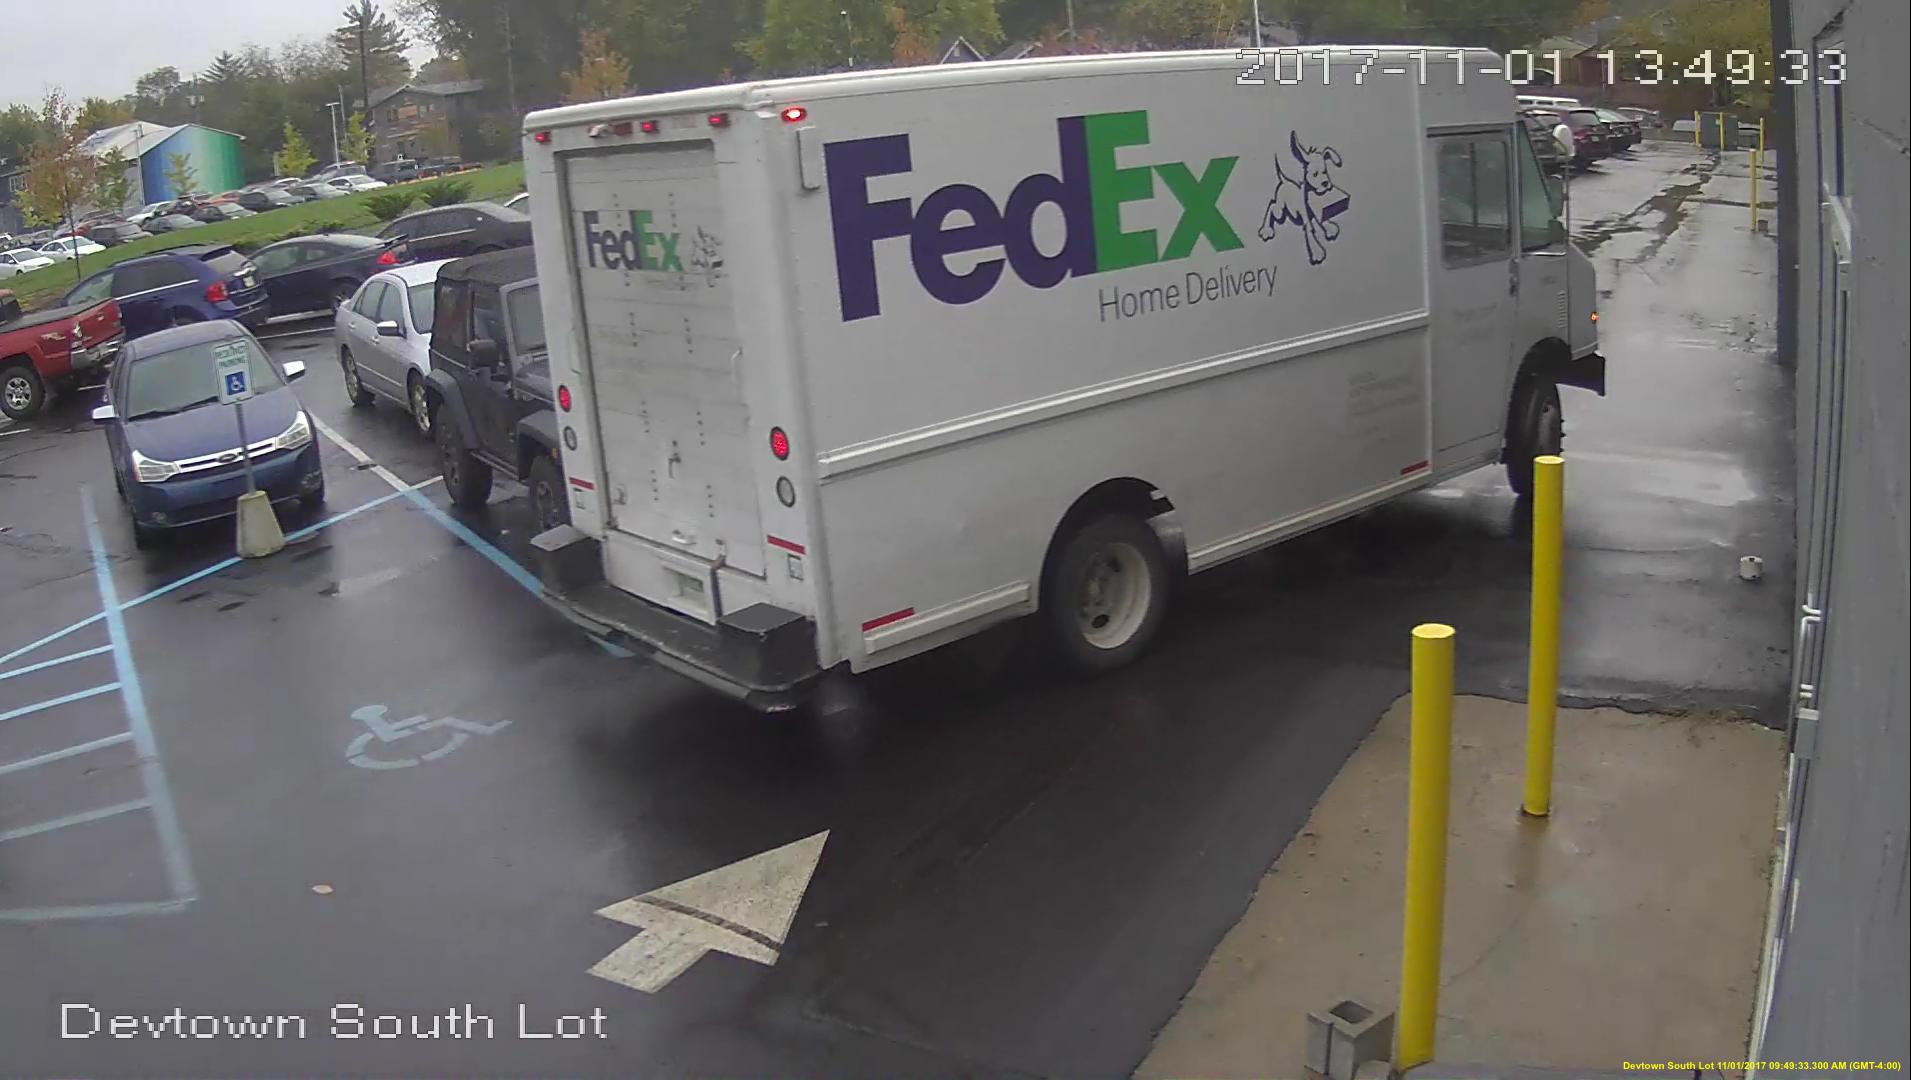fedex_truck: (545, 50, 1597, 711)
